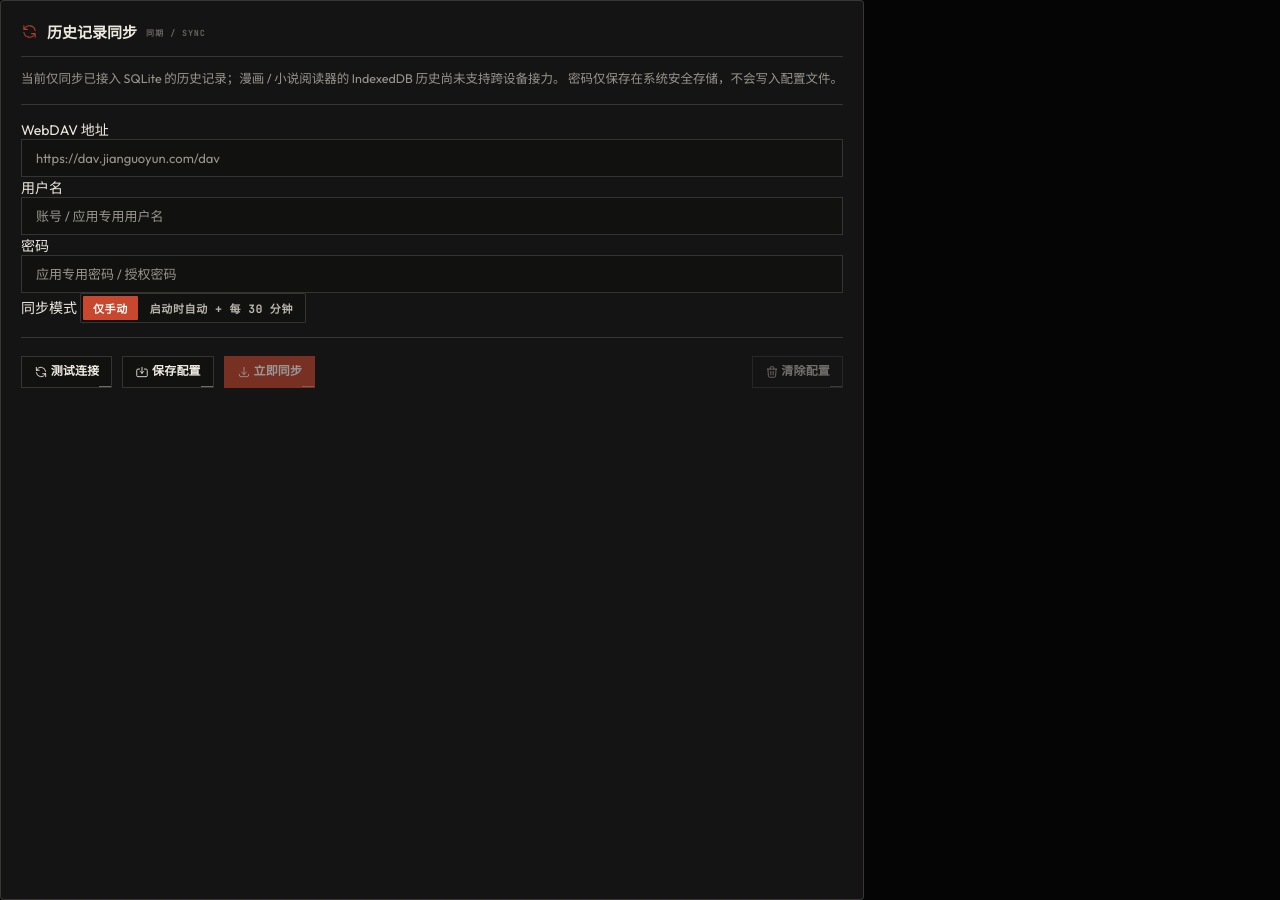
Test: SyncSettings › 认证失败时红字显示错误文案，且不崩溃
Step 1. Type "https://dav.example.com/dav" into the field labelled "WebDAV 地址" → (432, 158), box x1=21 y1=139 x2=843 y2=177
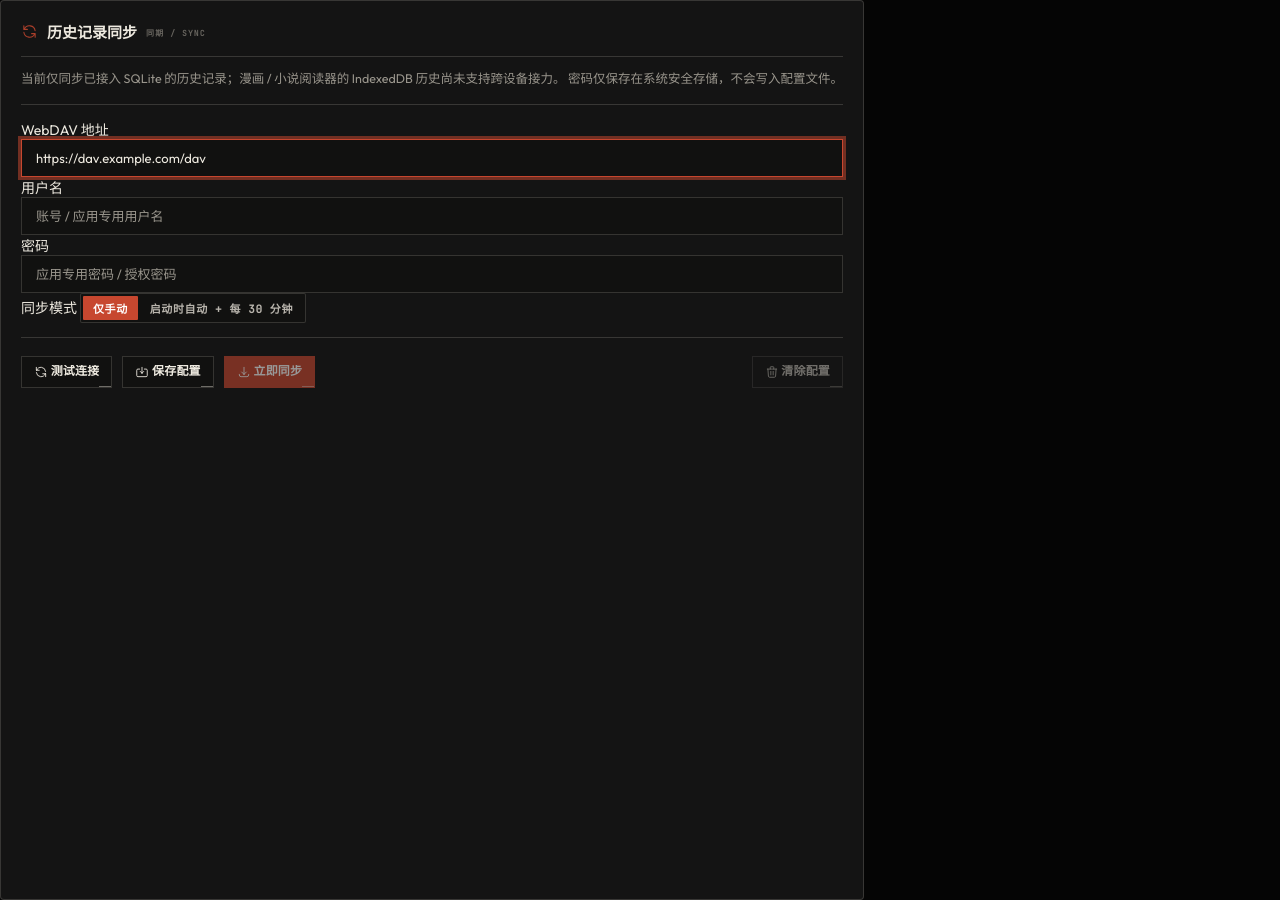
Step 2. Type "alice" into the field labelled "用户名" → (432, 216), box x1=21 y1=197 x2=843 y2=235
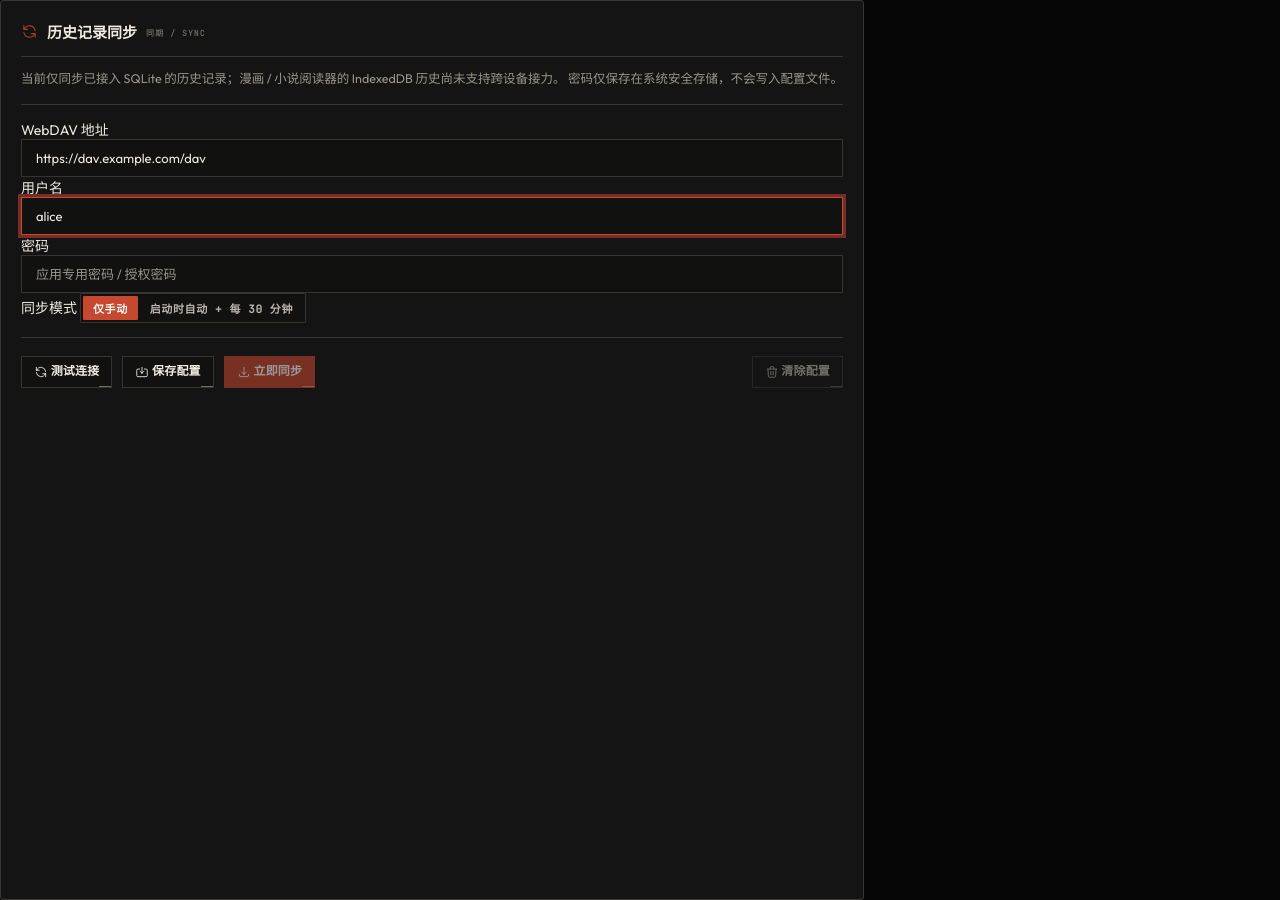
Step 3. Type "app-password" into the password field labelled "密码" → (432, 274), box x1=21 y1=255 x2=843 y2=293
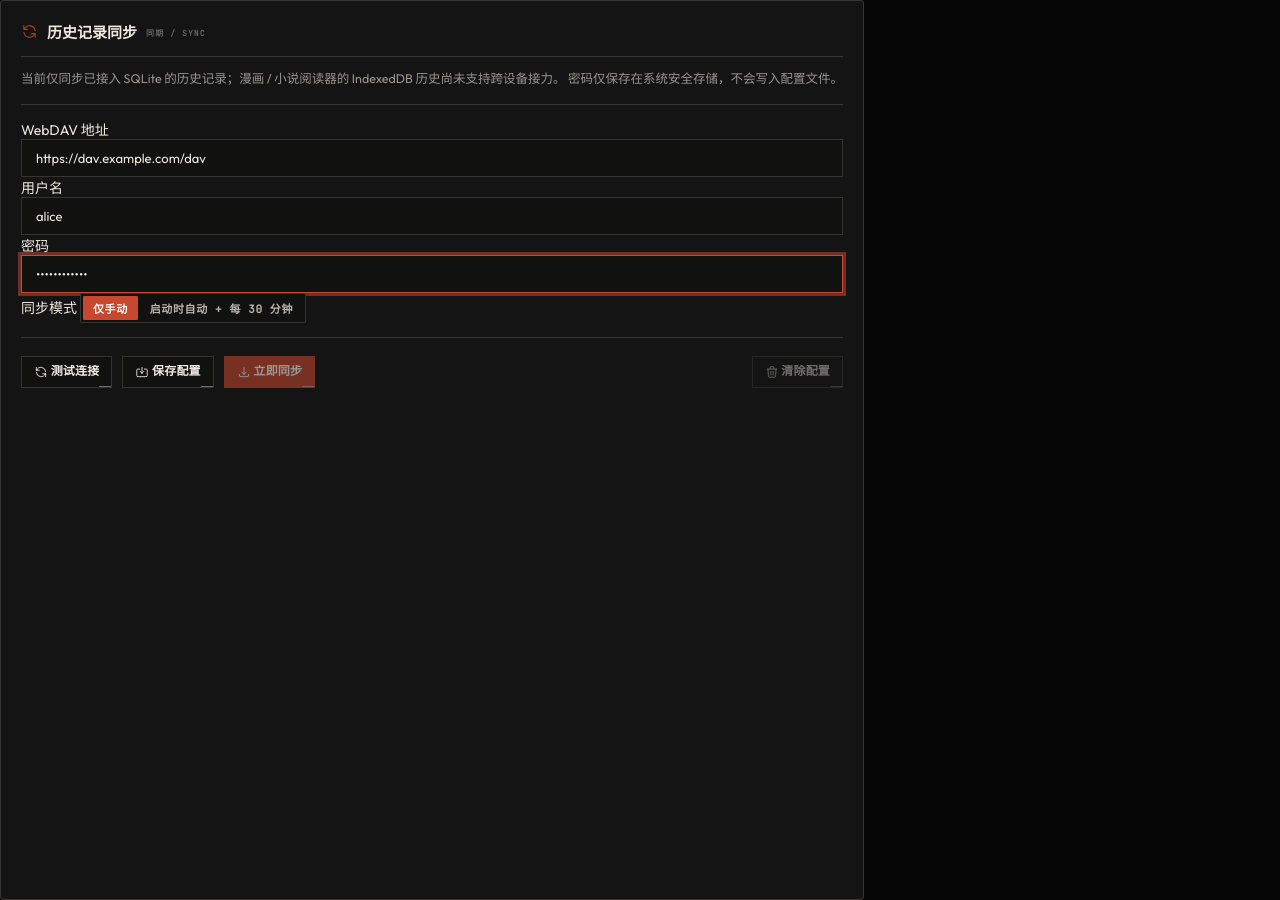
Step 4. Click the button "测试连接" → (67, 372), box x1=21 y1=356 x2=112 y2=388
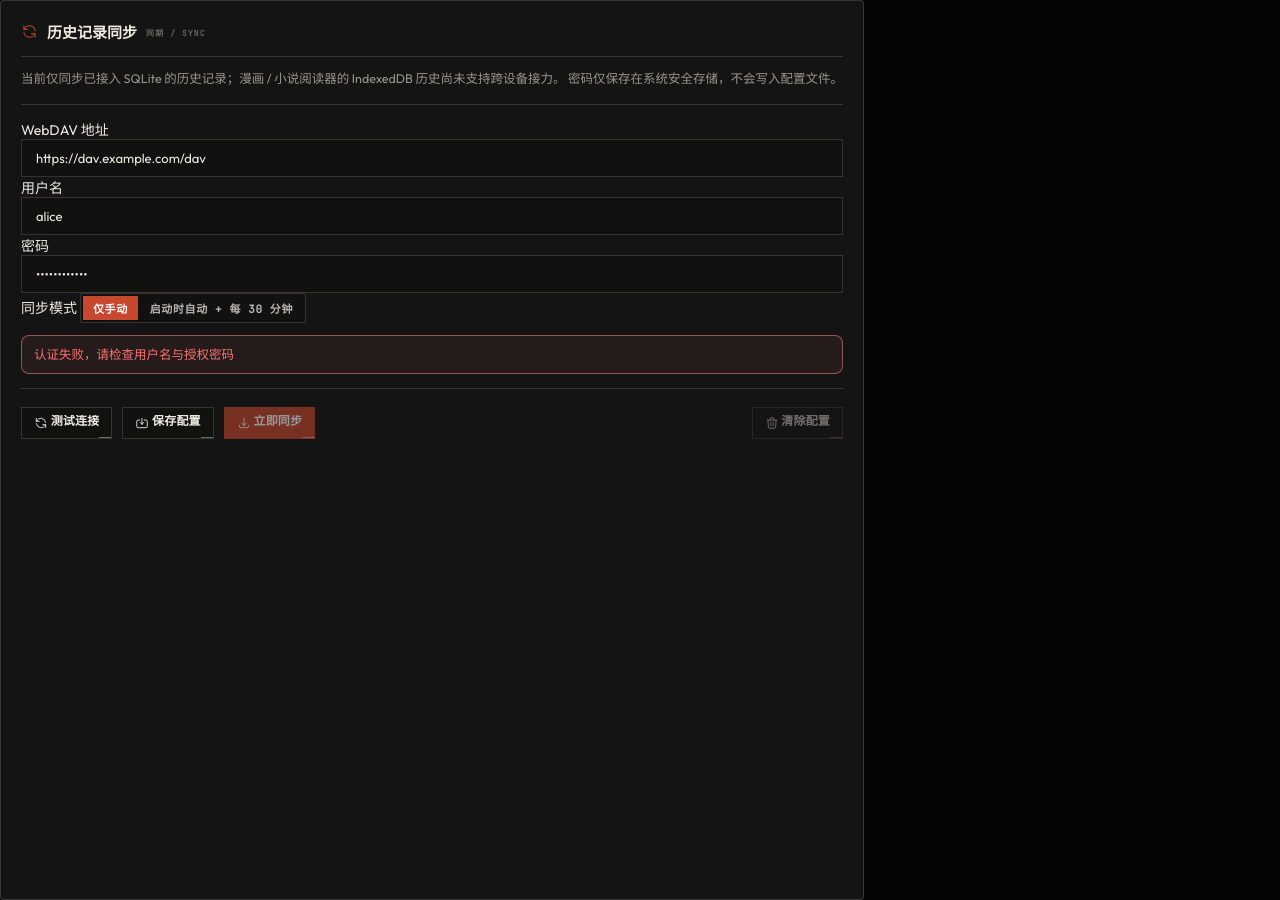
Result: the message reads "认证失败，请检查用户名与授权密码" at x1=34 y1=346 x2=234 y2=362
